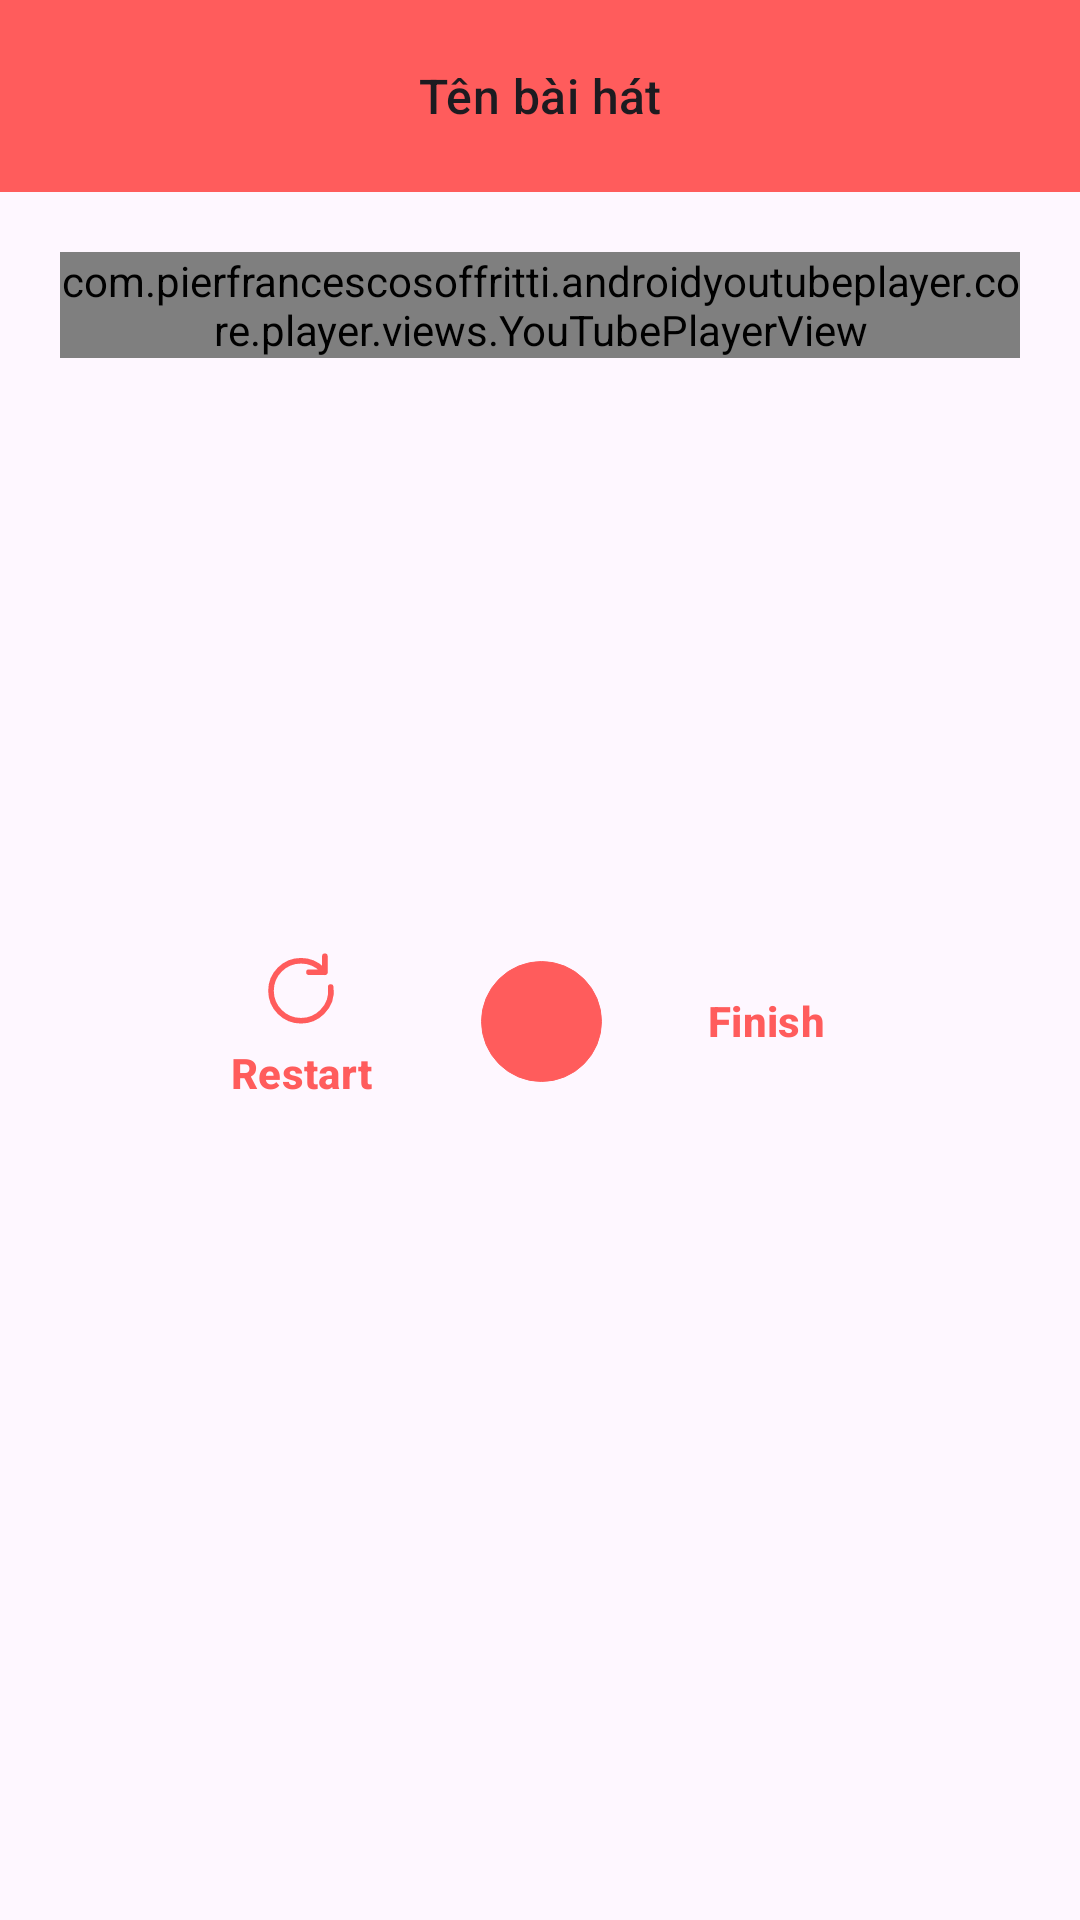

Screen size 1080px x 1920px. Icon name, then its center in pixels as (x,y):
record: (541,1021)
